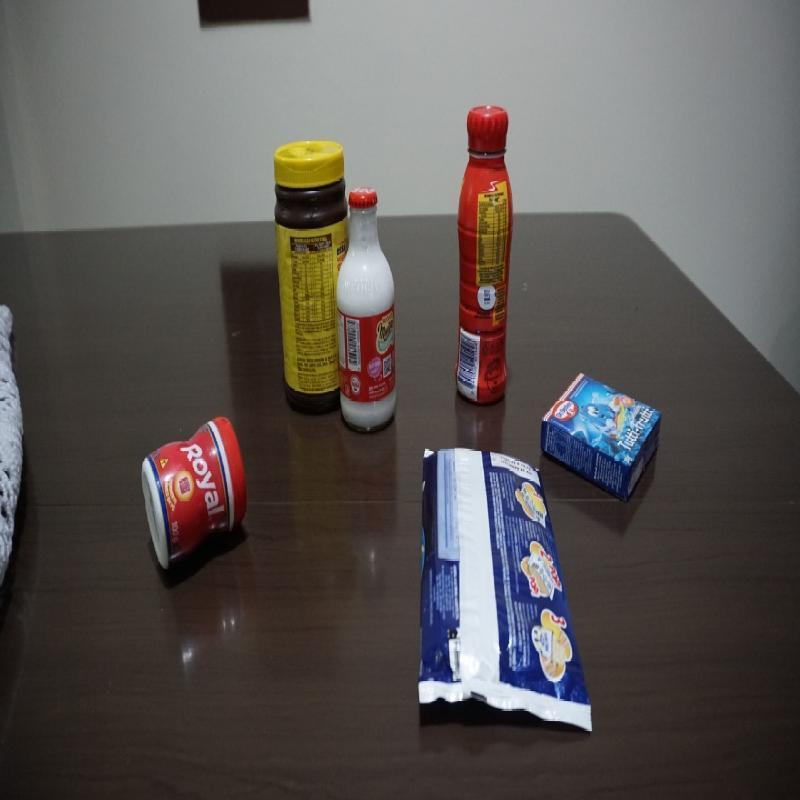Chocolate Milk: (455, 101, 514, 408)
Chocolate Powder: (273, 137, 354, 416)
Coconut Milk: (334, 184, 400, 436)
Gelatine: (540, 370, 663, 504)
Popcorn: (417, 447, 594, 736)
Yeast: (140, 414, 249, 575)
